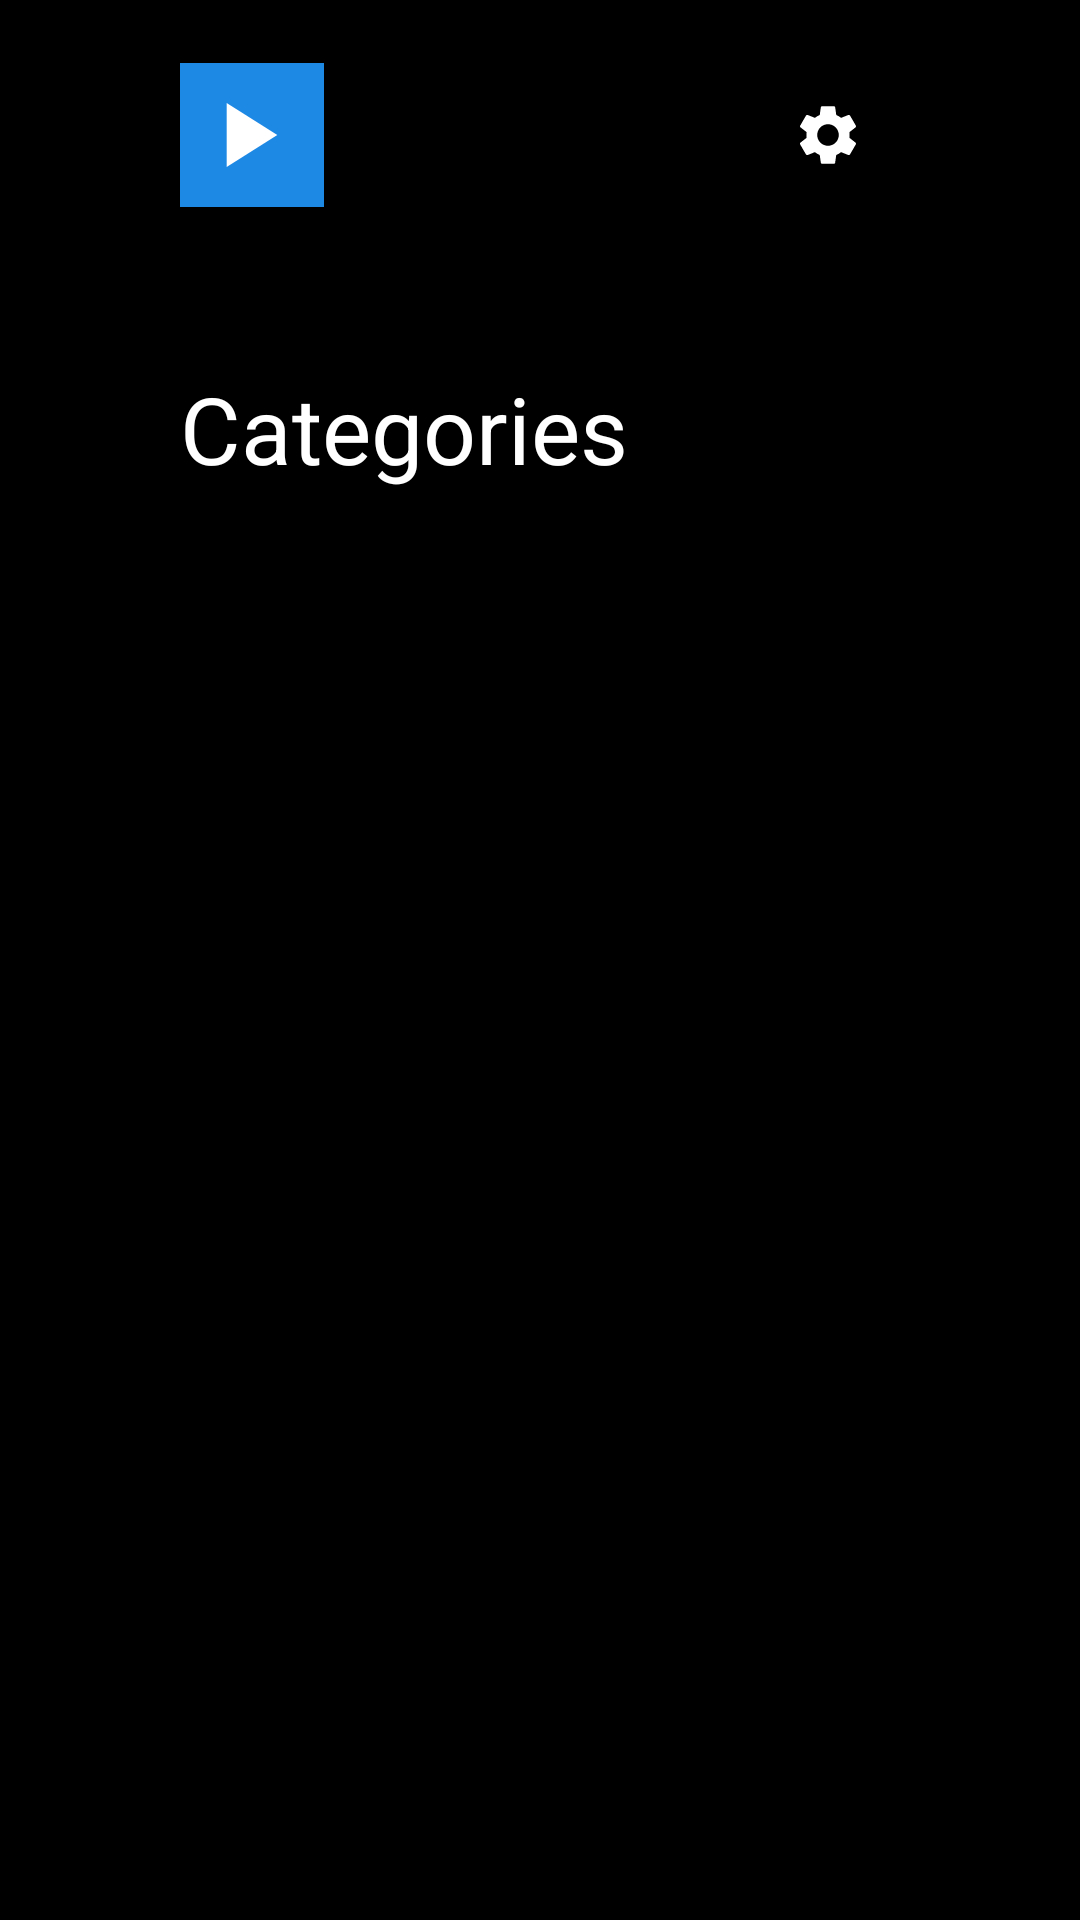

Point at icon controls on the screen. Image size 1080 x 1920, points as (x=x, y=y).
Settings: (x=828, y=135)
